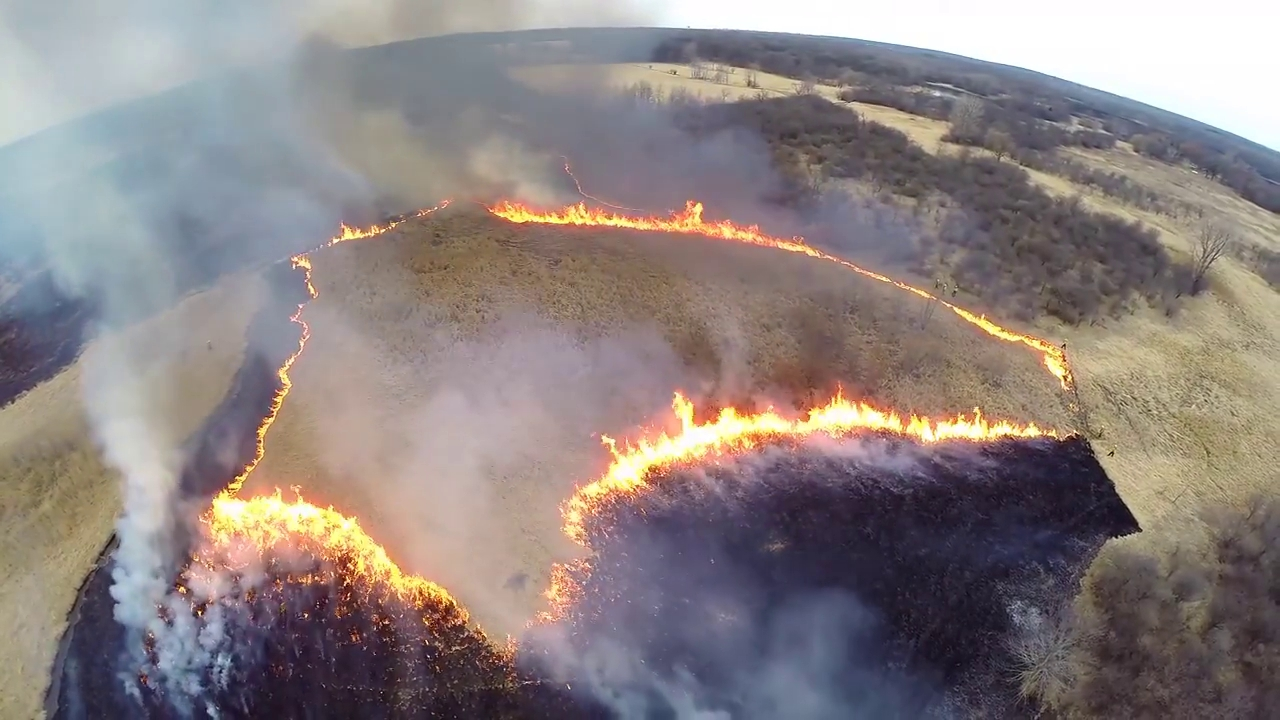forest_fire: (486, 201, 1075, 390), (201, 250, 452, 600), (561, 391, 1058, 547), (321, 201, 448, 248), (530, 561, 584, 627), (504, 637, 515, 656)
